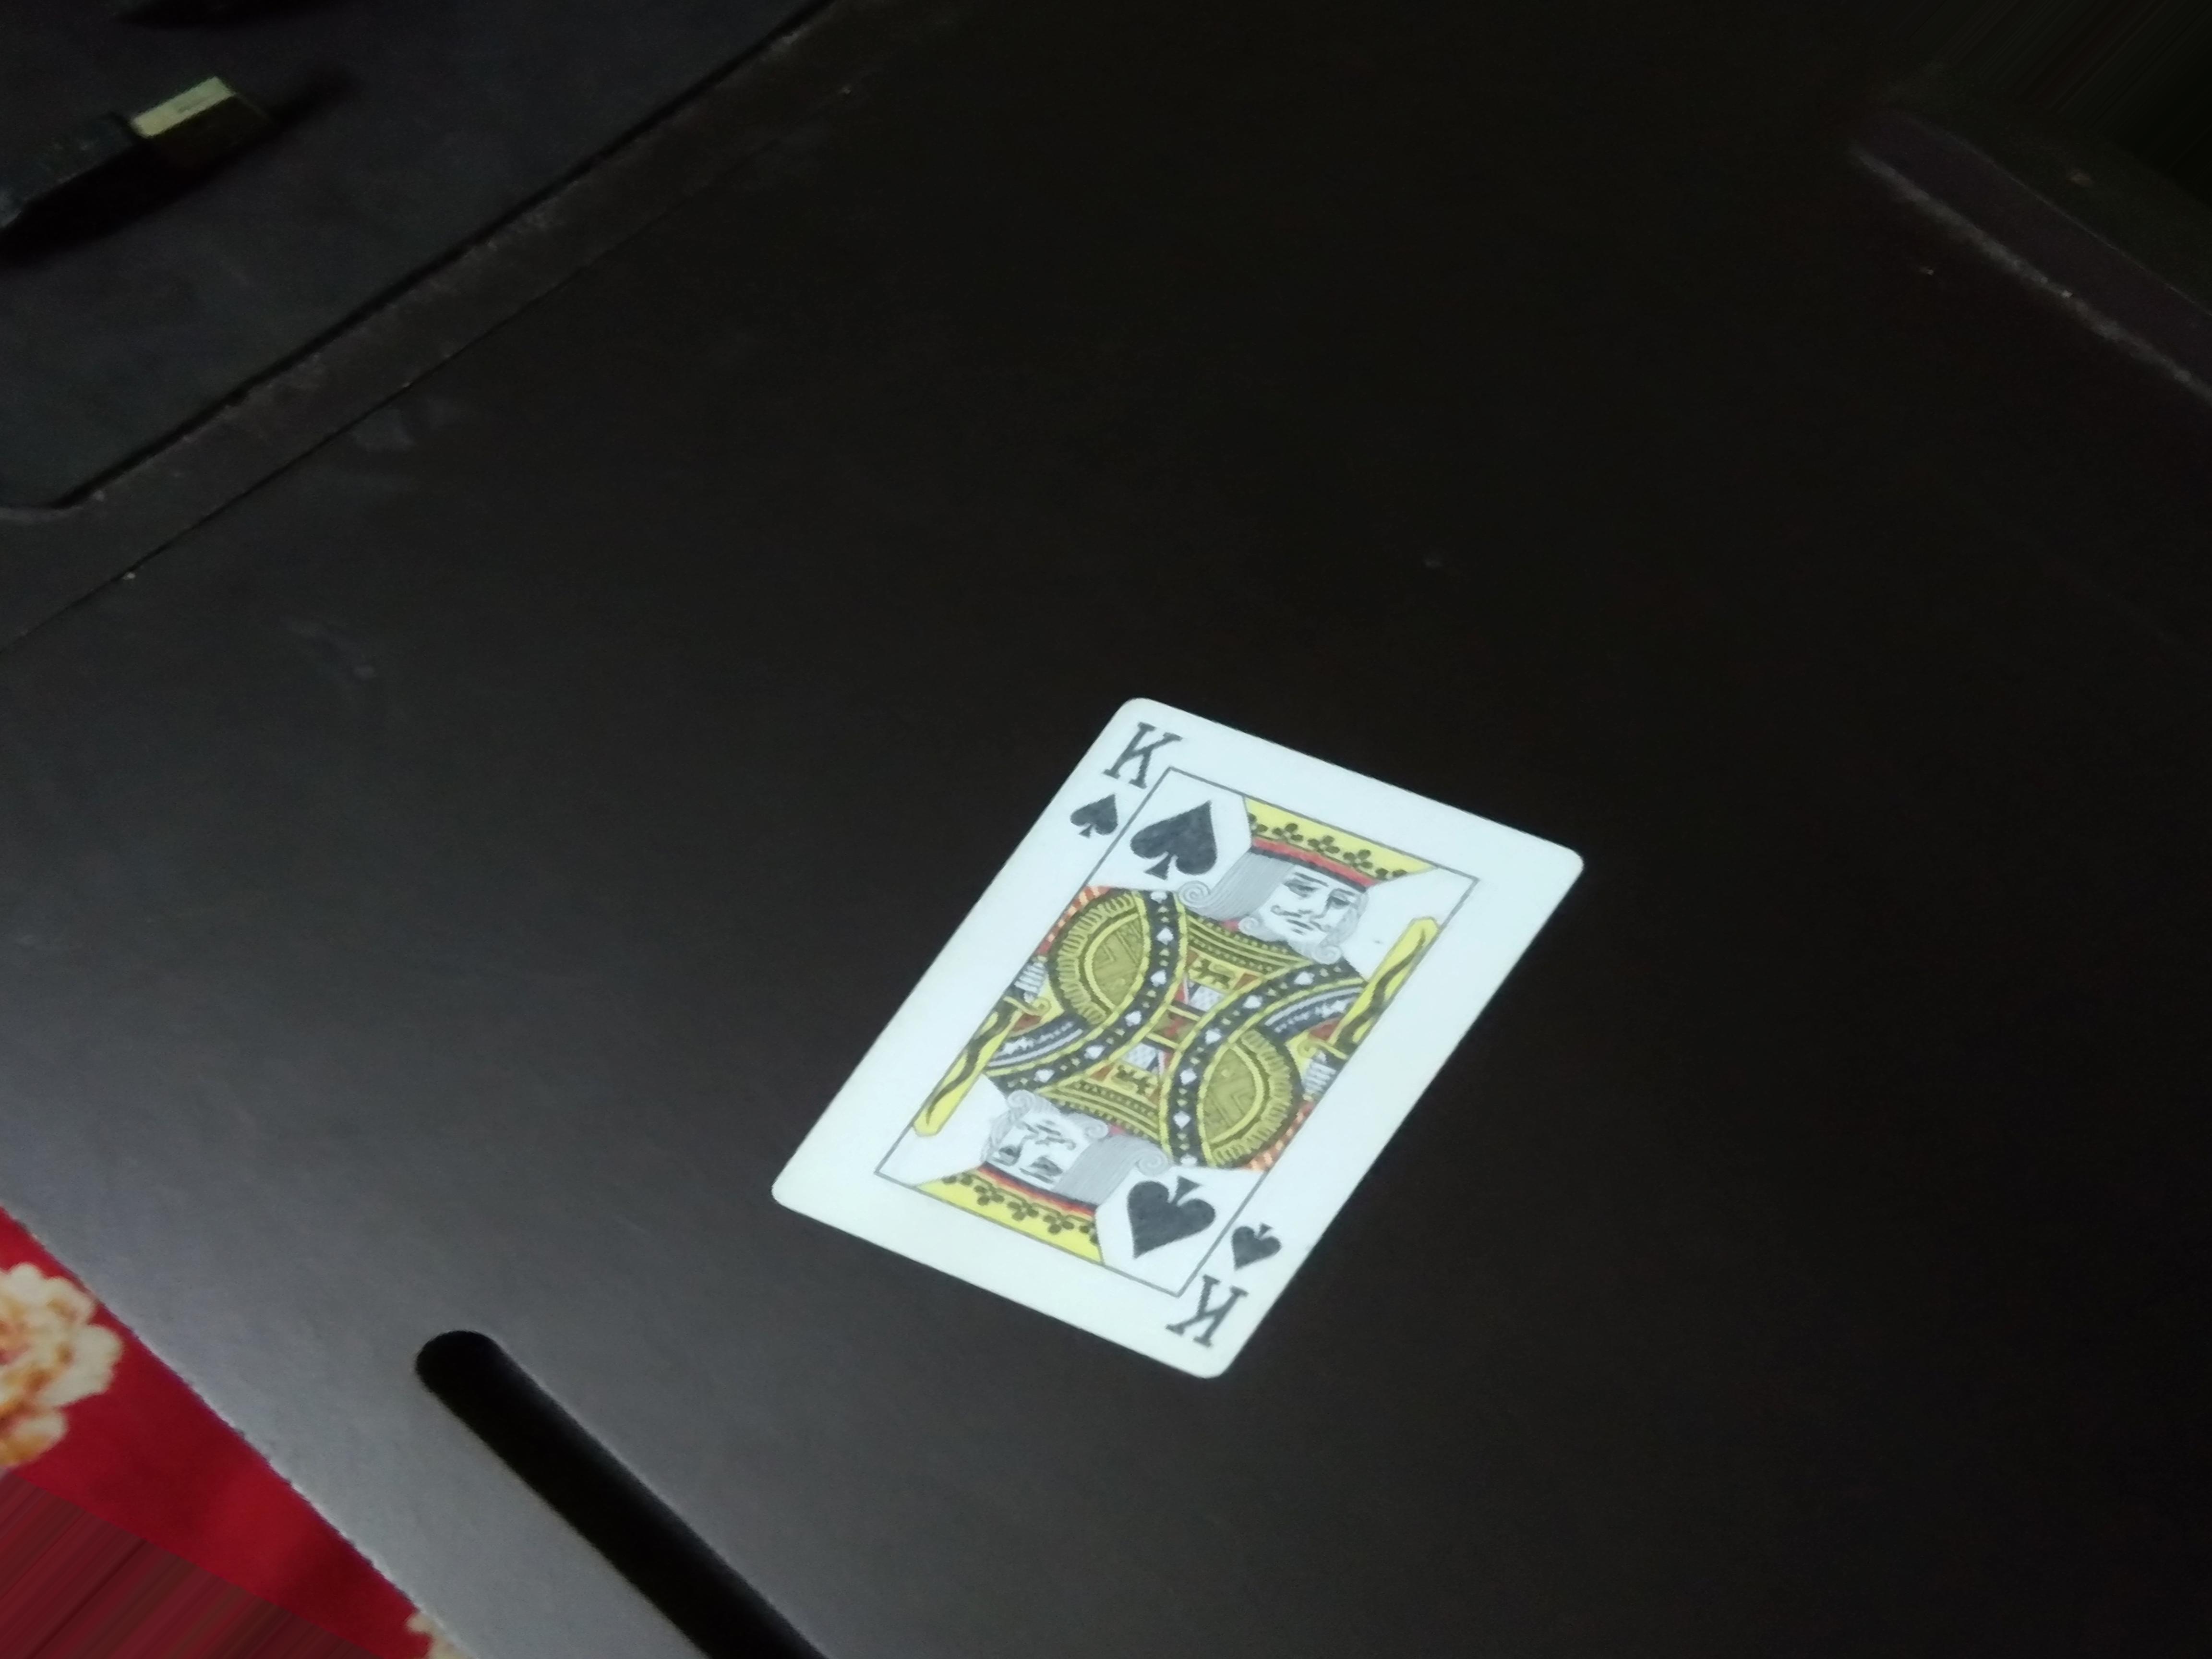KS: (1073, 704, 1176, 850)
